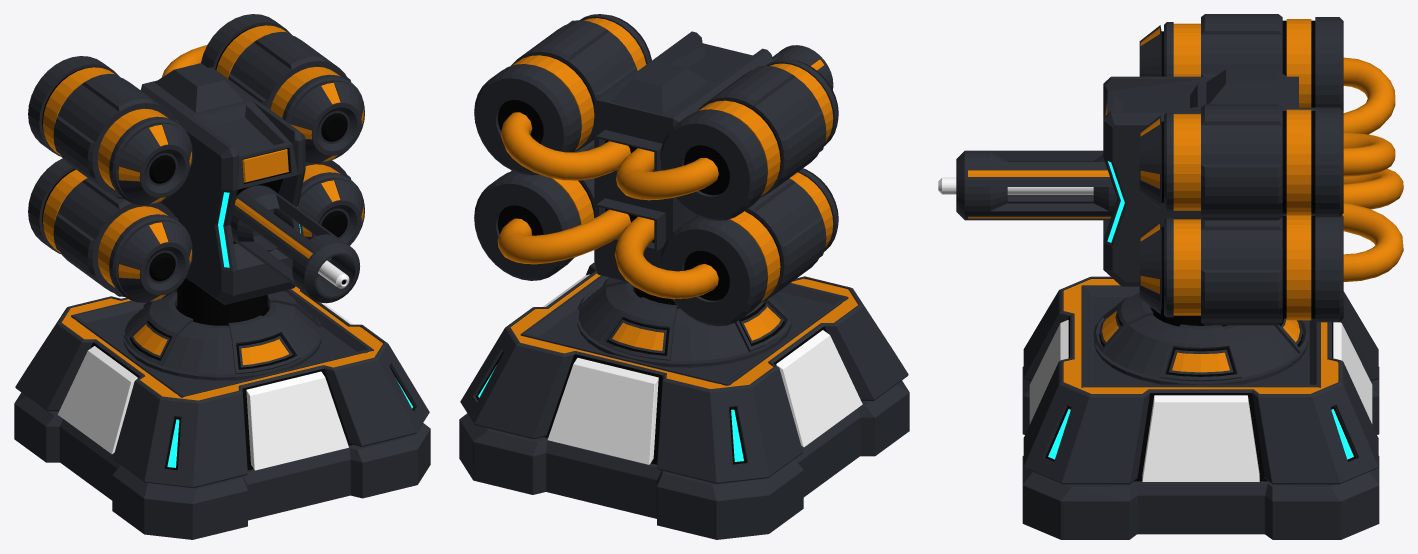
File: SM_Flamethrower_Turret.fbx
3 renders of one model, left to right at view 1: azimuth 30°, elevation 25°; view 2: azimuth 150°, elevation 25°; view 3: azimuth 270°, elevation 25°, orthographic. The views are drawn at different scales.
Visible parts, largest first — view 1: SM_Flamethrower_Turret_Head, SM_Flamethrower_Turret_Base; view 2: SM_Flamethrower_Turret_Head, SM_Flamethrower_Turret_Base; view 3: SM_Flamethrower_Turret_Head, SM_Flamethrower_Turret_Base.
Boxes of the visible parts, x1,y1,x2,y2 form: SM_Flamethrower_Turret_Head: (28, 14, 364, 380); SM_Flamethrower_Turret_Base: (14, 286, 430, 539); SM_Flamethrower_Turret_Head: (474, 14, 838, 367); SM_Flamethrower_Turret_Base: (459, 262, 909, 539); SM_Flamethrower_Turret_Head: (938, 14, 1403, 384); SM_Flamethrower_Turret_Base: (1022, 276, 1379, 539).
Bounding box in the file's own units: 100 × 124 × 130.
